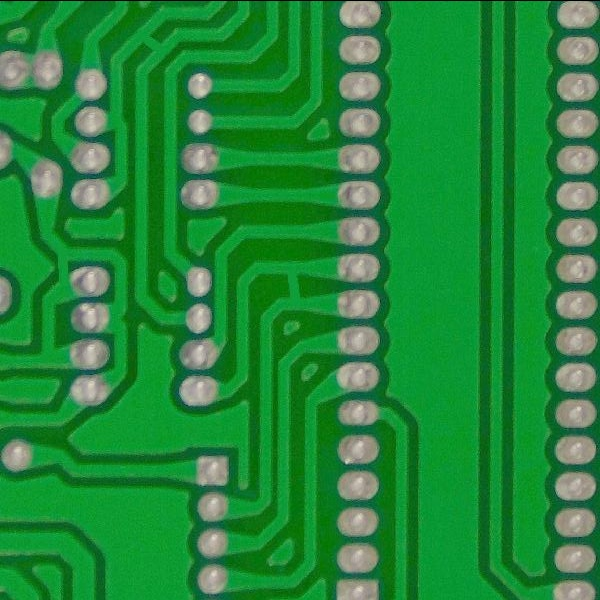short: (41, 231, 83, 299), (273, 256, 319, 317), (130, 19, 172, 68)
